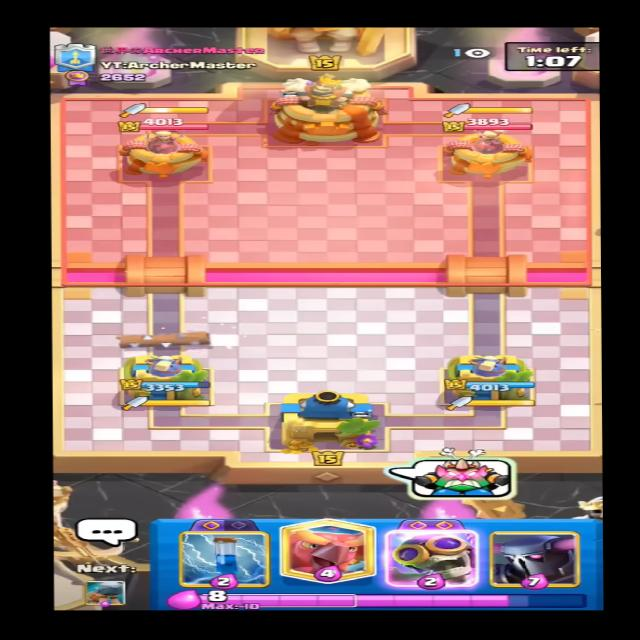log: (100, 321, 226, 349)
